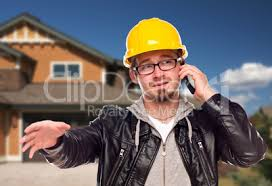Person_wearing_helmet: (117, 13, 189, 74)
